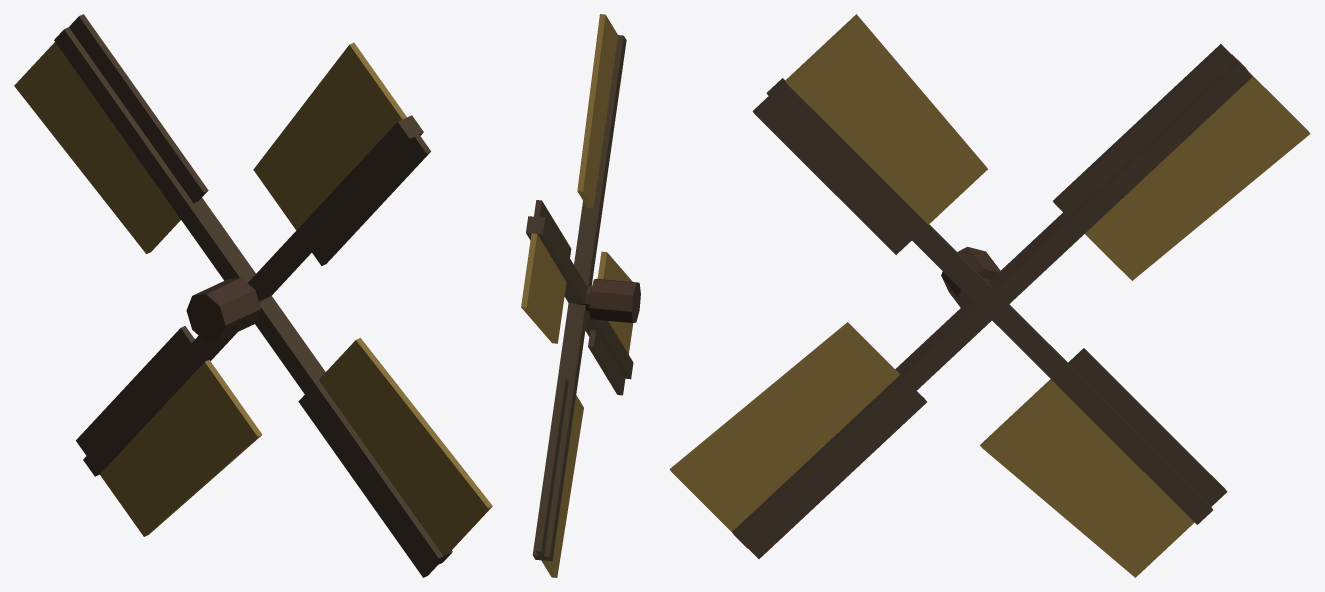
File: Windmill.glb
3 renders of one model, left to right at view 1: azimuth 30°, elevation 25°; view 2: azimuth 150°, elevation 25°; view 3: azimuth 270°, elevation 25°, orthographic. The views are drawn at different scales.
Parts seen in each view (by area): view 1: Windmill Fan; view 2: Windmill Fan; view 3: Windmill Fan.
Boxes of the visible parts, box(x1,y1,x2,y2) form: Windmill Fan: box(14, 14, 492, 577); Windmill Fan: box(521, 14, 640, 577); Windmill Fan: box(669, 14, 1310, 577).
Size of the model in its own units: 0.4193 by 1.31 by 1.27.
